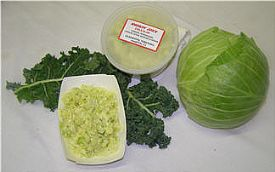cabbage: (173, 27, 273, 133)
